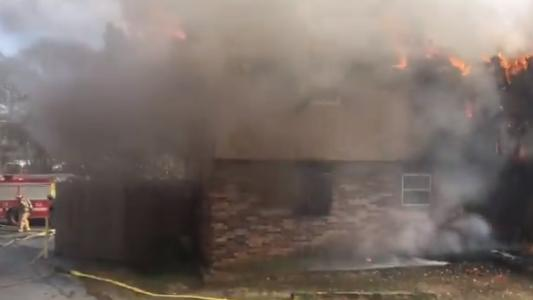smoke: (49, 58, 468, 156), (327, 214, 494, 266)
